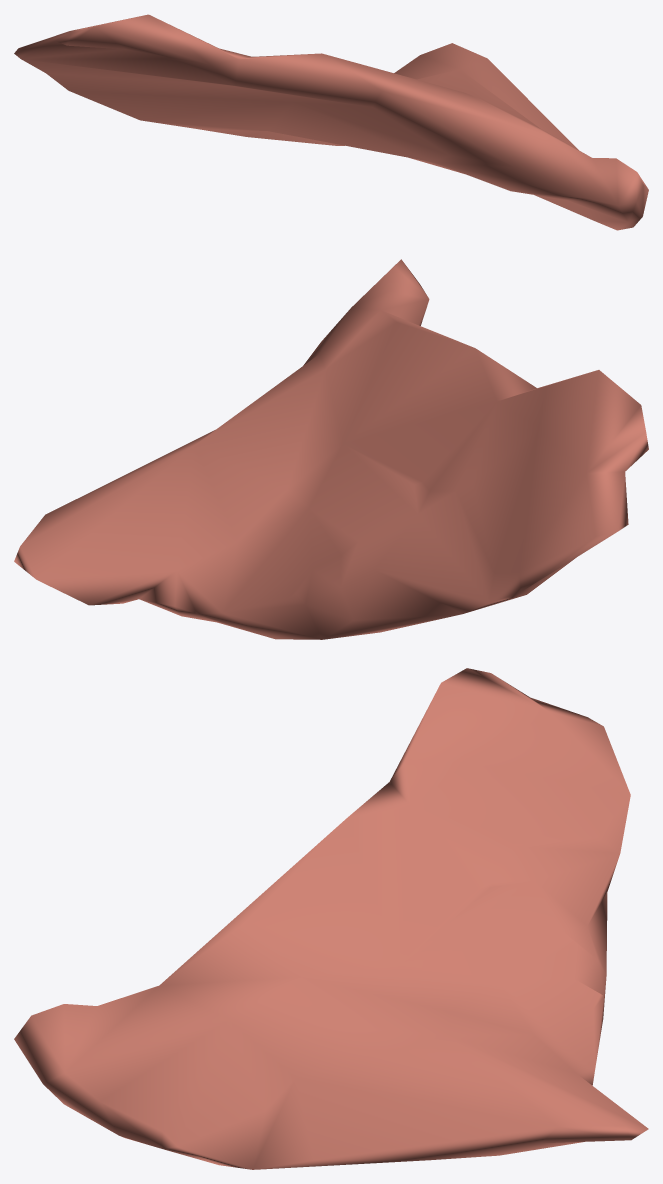
3 views of the same model, one above another, from view 1: azimuth 30°, elevation 25°; view 2: azimuth 150°, elevation 25°; view 3: azimuth 270°, elevation 25° (orthographic). The views are drawn at different scales.
Parts seen in each view (by area): view 1: 右侧降鼻中隔肌; view 2: 右侧降鼻中隔肌; view 3: 右侧降鼻中隔肌.
Boxes of the visible parts, x1,y1,x2,y2 form: 右侧降鼻中隔肌: (14, 14, 648, 230); 右侧降鼻中隔肌: (14, 259, 648, 639); 右侧降鼻中隔肌: (14, 668, 648, 1169).
Bounding box in the file's own units: 0.0245 × 0.0112 × 0.0238.
